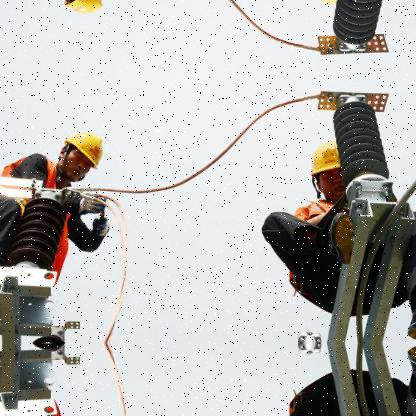helmet: (311, 140, 354, 204), (61, 132, 107, 176), (60, 0, 107, 11)
